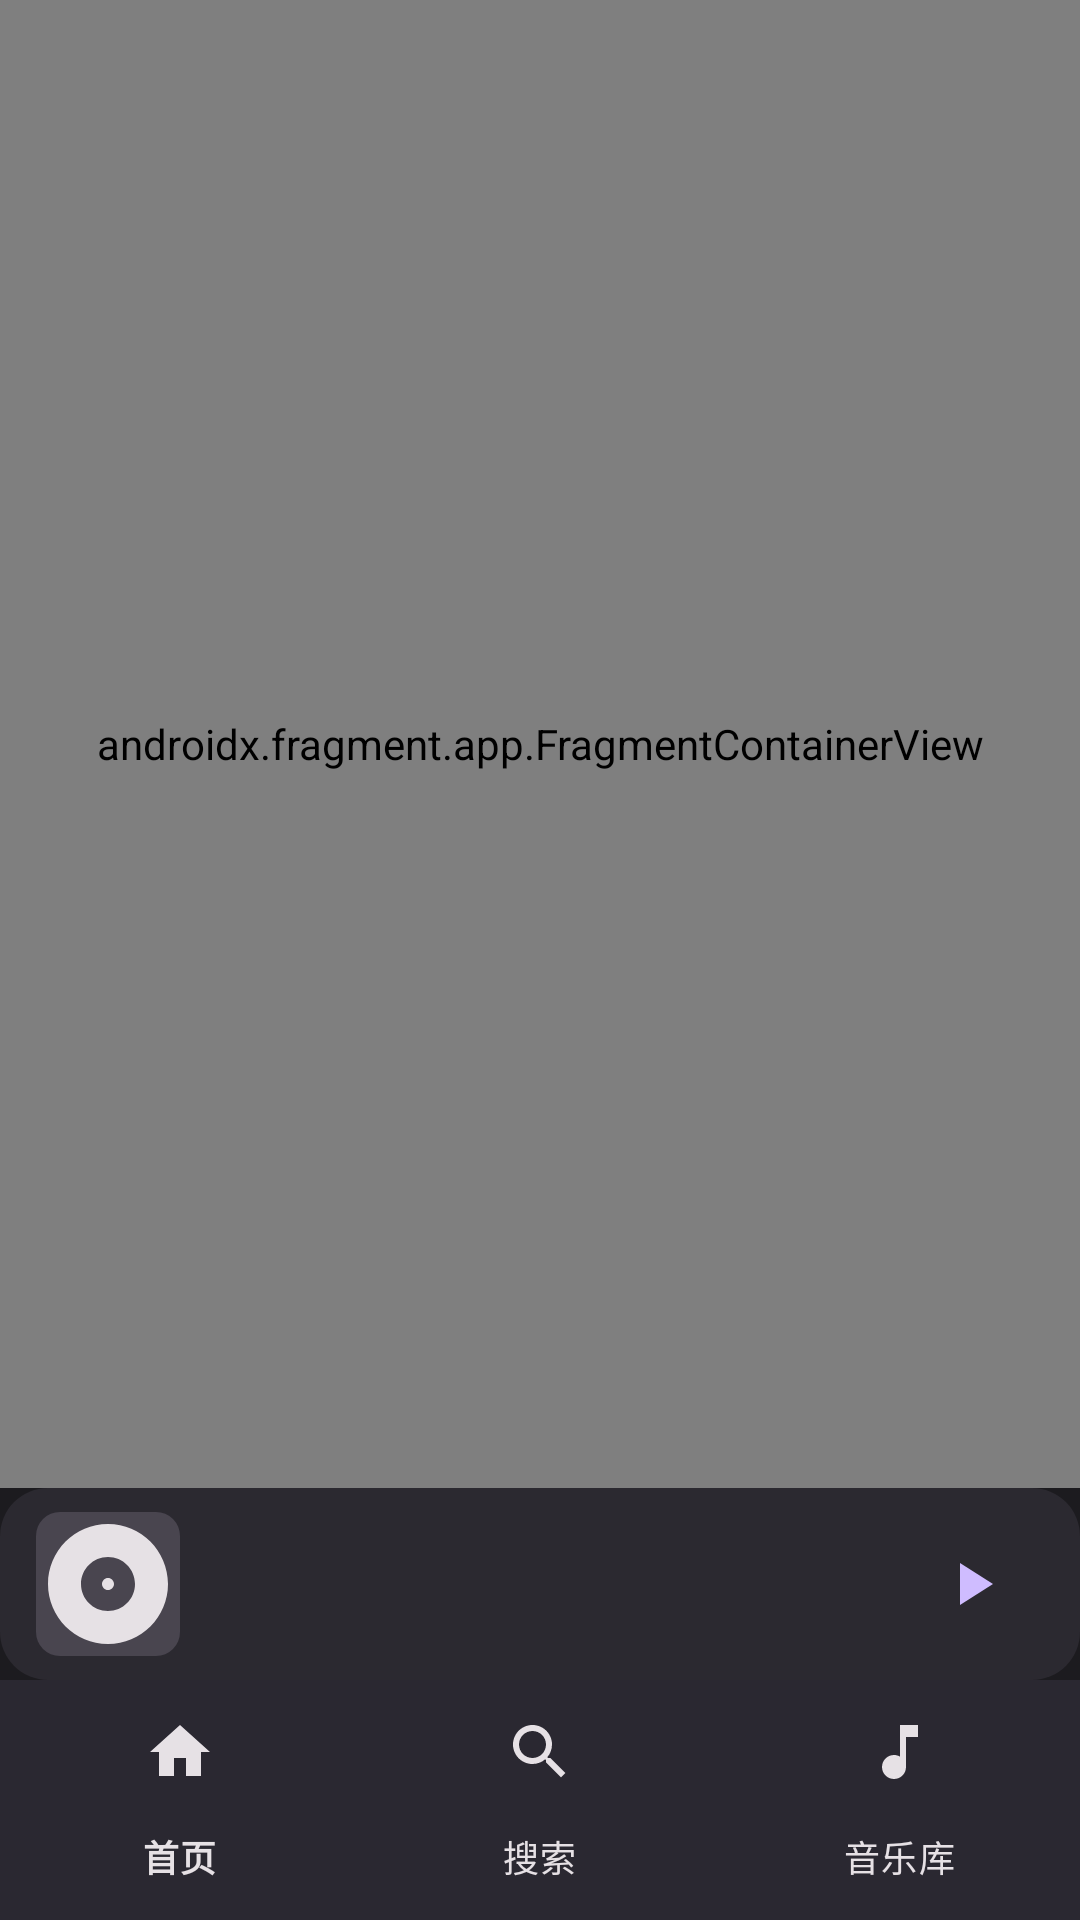

Icons on this 1080*1920 Android screen, each with the point to tap as (x,y):
播放: (976,1584)
